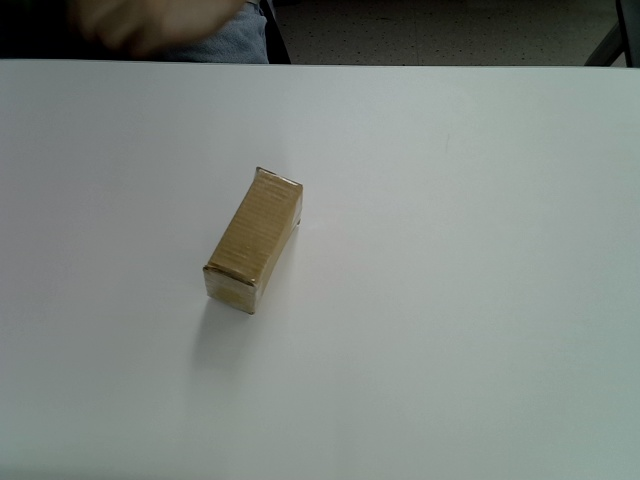normal: (203, 166, 304, 315)
